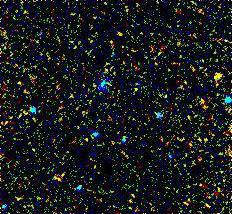star: (203, 61, 232, 91)
